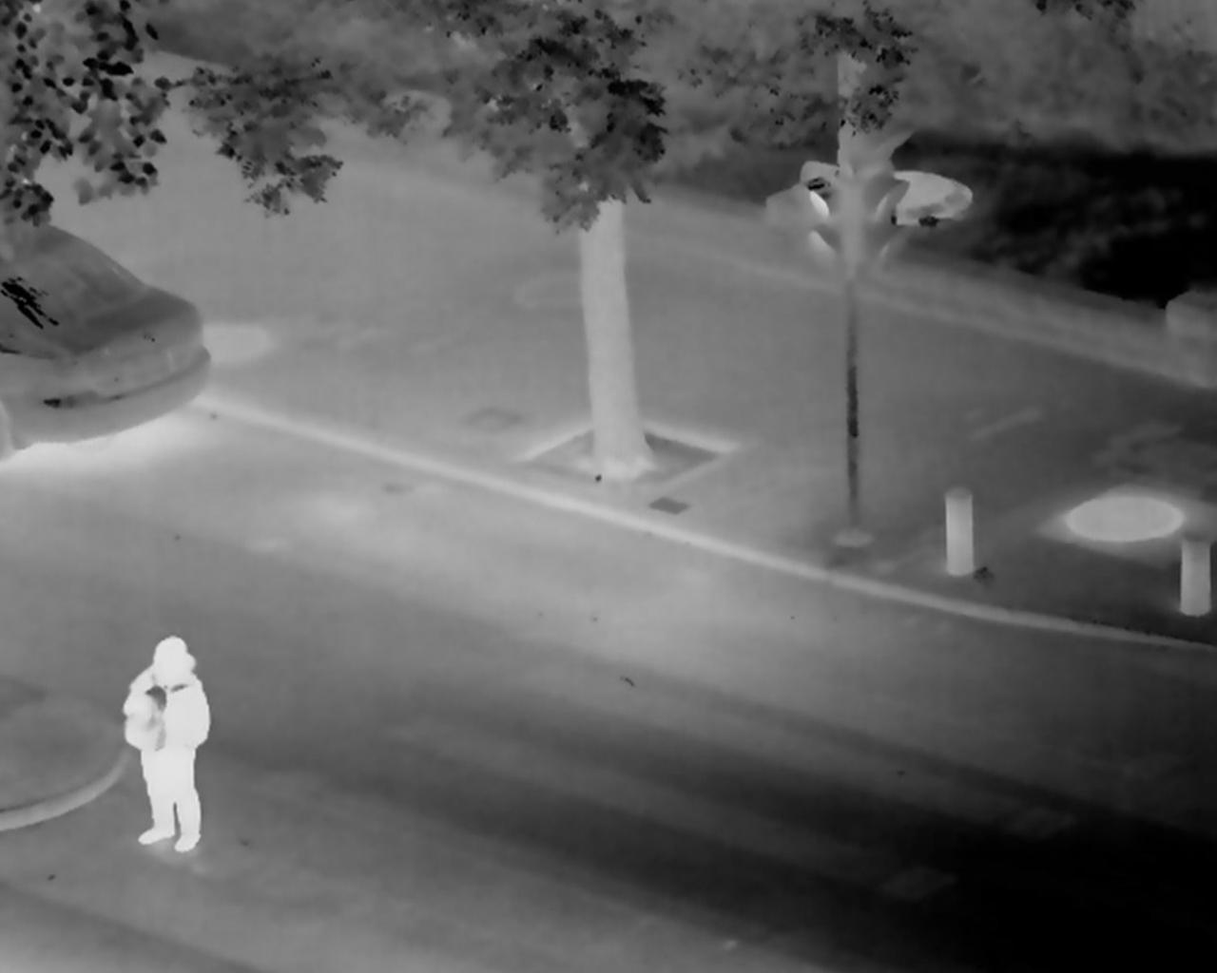person: (99, 615, 224, 849)
